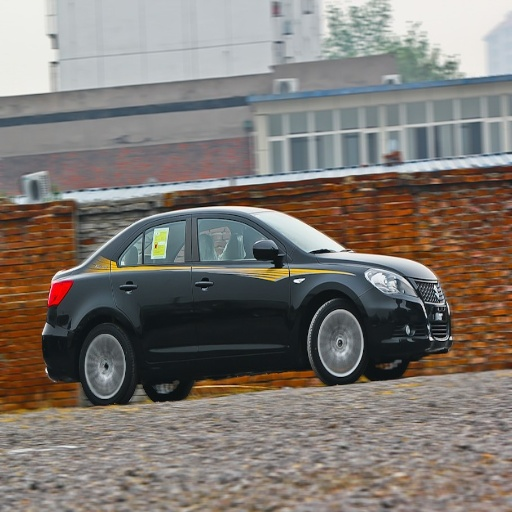back_right_door: (113, 212, 198, 361)
front_bumper: (364, 278, 451, 365)
front_right_door: (192, 213, 291, 350)
